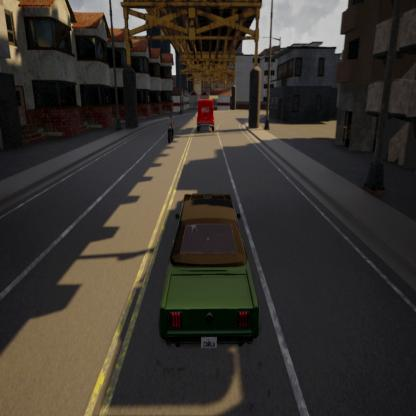Cars: (150, 182, 267, 358), (194, 95, 217, 136)
